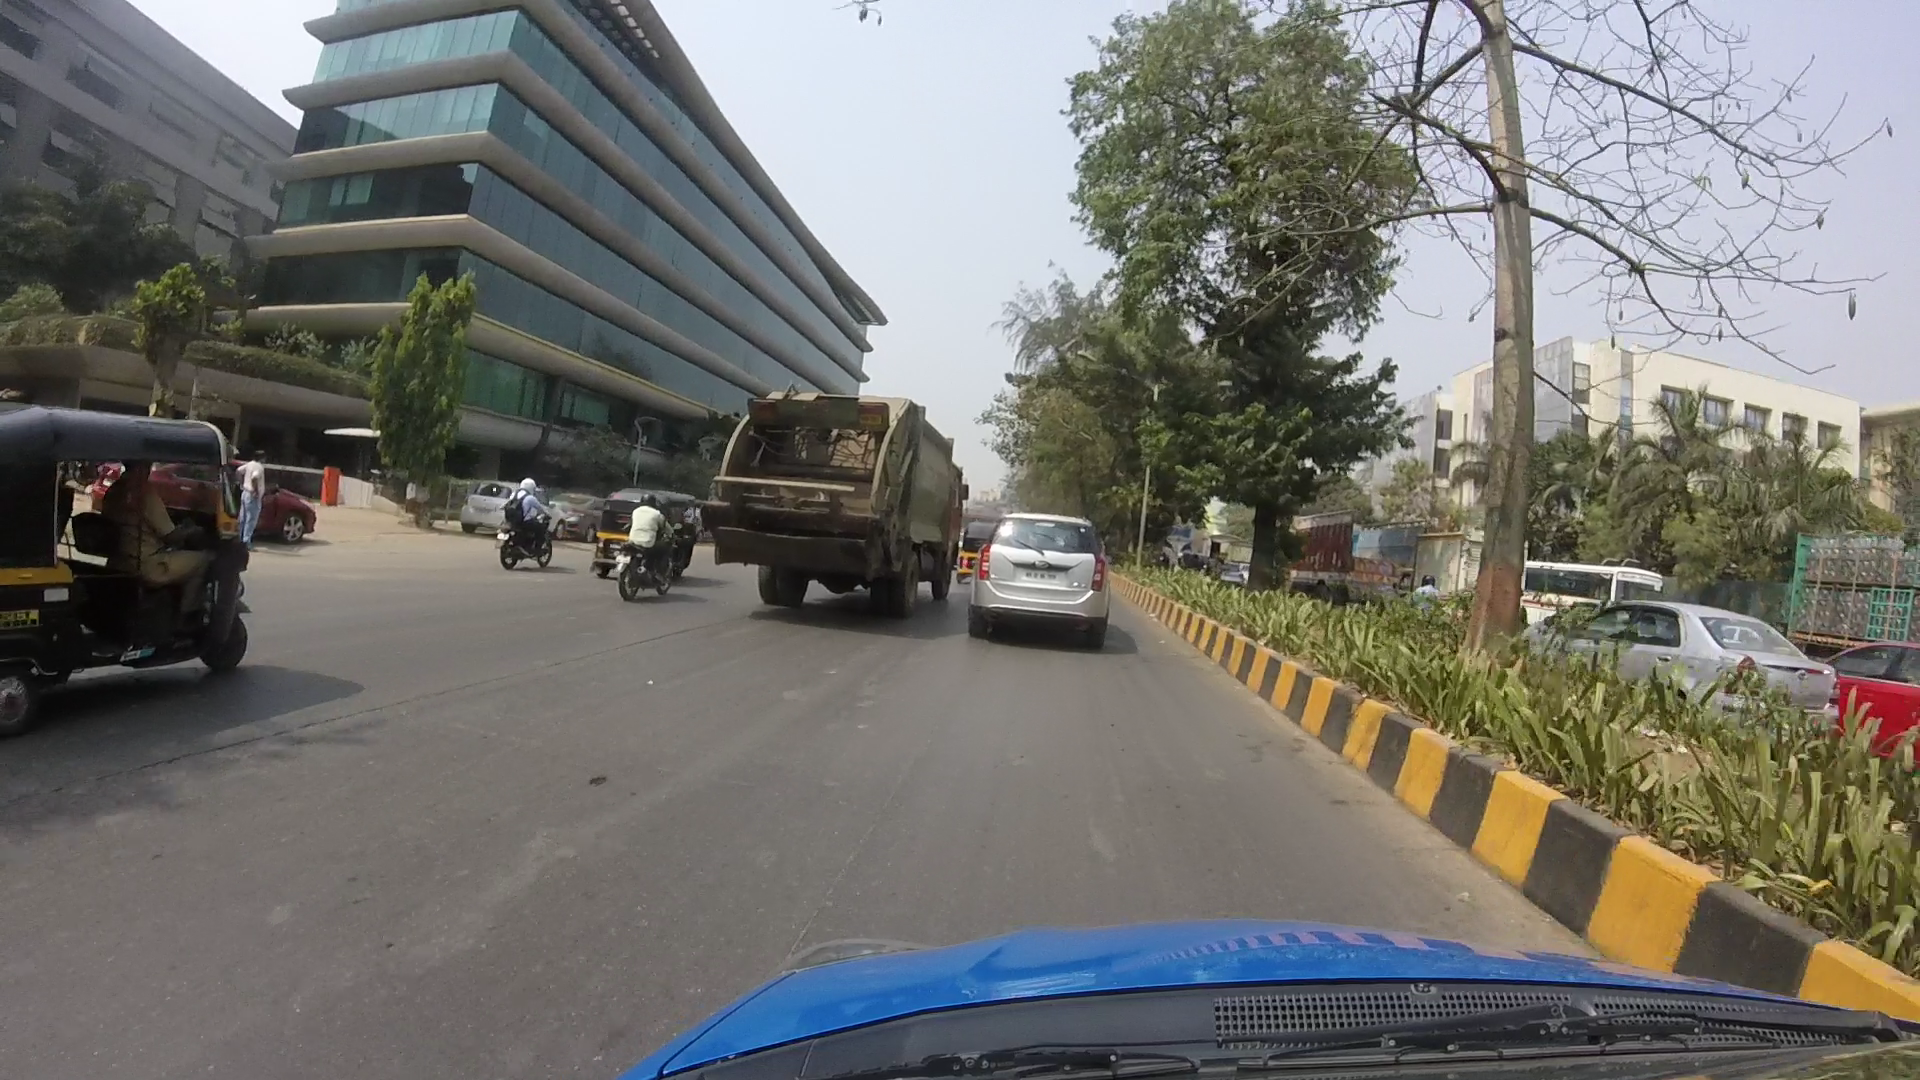bike/scooter: (605, 506, 675, 613), (496, 487, 553, 566)
car: (972, 506, 1120, 626)
rickshaw: (11, 404, 272, 683)
truck: (711, 401, 967, 604)
